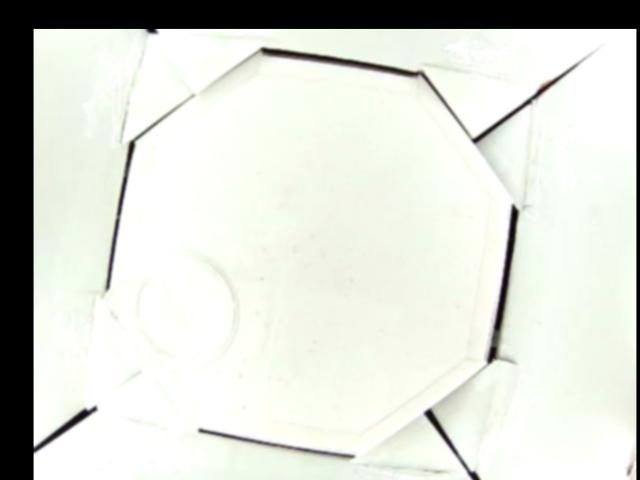Cup: (96, 250, 237, 375)
